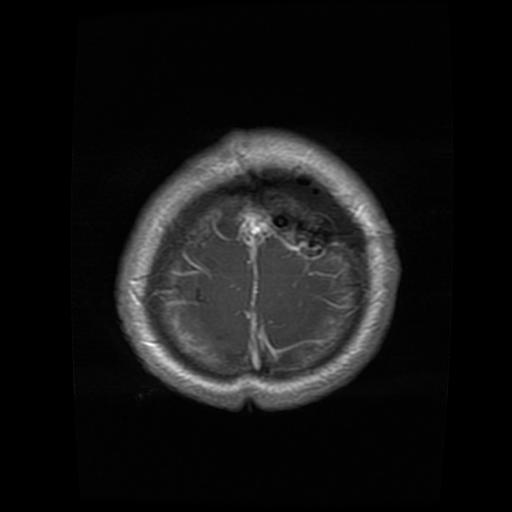Gliomia_tumour: (208, 169, 355, 245)
